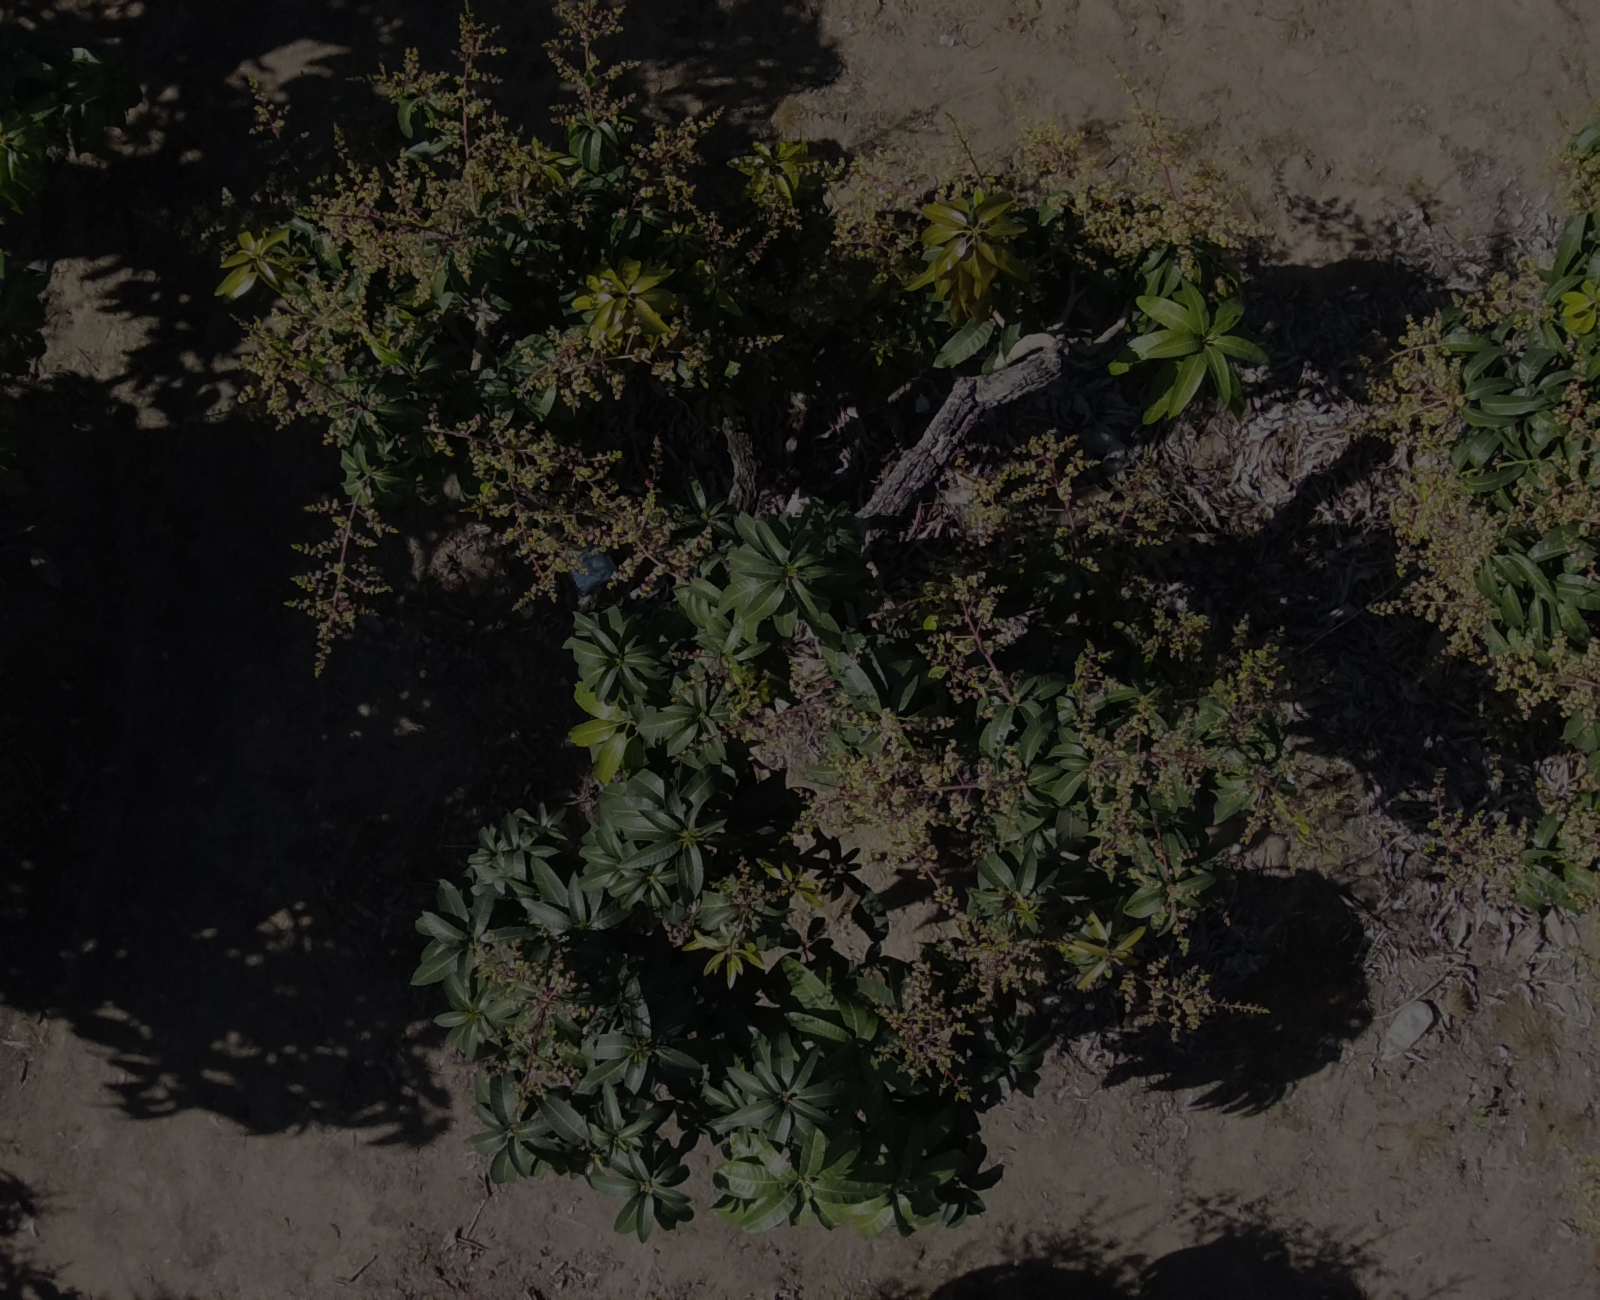flowers: (310, 19, 543, 279), (430, 414, 704, 597), (1068, 655, 1214, 933), (834, 702, 1022, 909), (1003, 101, 1247, 259), (249, 275, 434, 444), (963, 432, 1164, 573), (519, 257, 681, 415), (1374, 462, 1497, 659), (869, 570, 1037, 704), (285, 499, 391, 673), (475, 942, 590, 1100), (621, 115, 728, 259), (1364, 310, 1463, 460), (827, 149, 935, 285), (876, 958, 972, 1098), (1118, 956, 1267, 1040), (544, 0, 635, 135), (1207, 616, 1305, 726), (1243, 749, 1357, 844), (1485, 629, 1597, 722), (1540, 377, 1597, 533), (1424, 809, 1527, 889), (831, 202, 922, 291), (1535, 755, 1597, 869), (959, 921, 1045, 1002), (1453, 260, 1548, 330), (1134, 602, 1209, 662), (1550, 141, 1597, 216), (553, 0, 621, 49), (1556, 378, 1597, 448)
